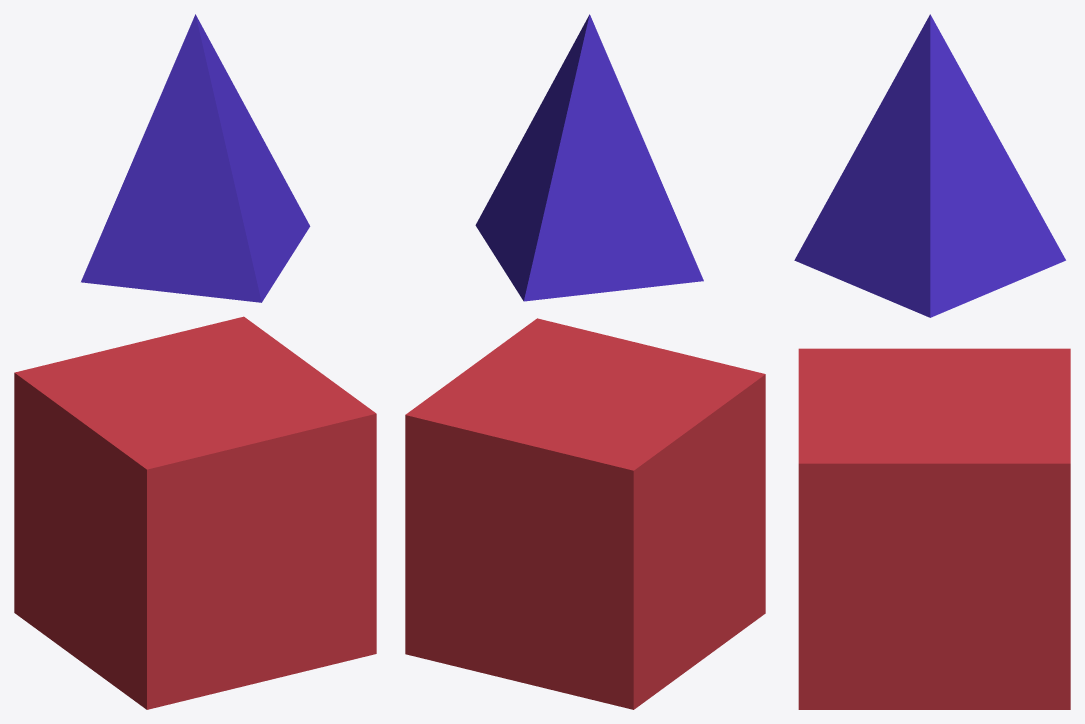
3 renders of one model, left to right at view 1: azimuth 30°, elevation 25°; view 2: azimuth 150°, elevation 25°; view 3: azimuth 270°, elevation 25°, orthographic. The views are drawn at different scales.
Parts seen in each view (by area): view 1: Box, Cone; view 2: Box, Cone; view 3: Box, Cone.
Part boxes in pixels (x1,y1,x2,y2): Box: (14,316,376,709); Cone: (81,14,310,302); Box: (405,318,765,709); Cone: (475,14,703,301); Box: (798,348,1070,709); Cone: (794,14,1065,317).
Bounding box in the file's own units: 202 × 517 × 203.
